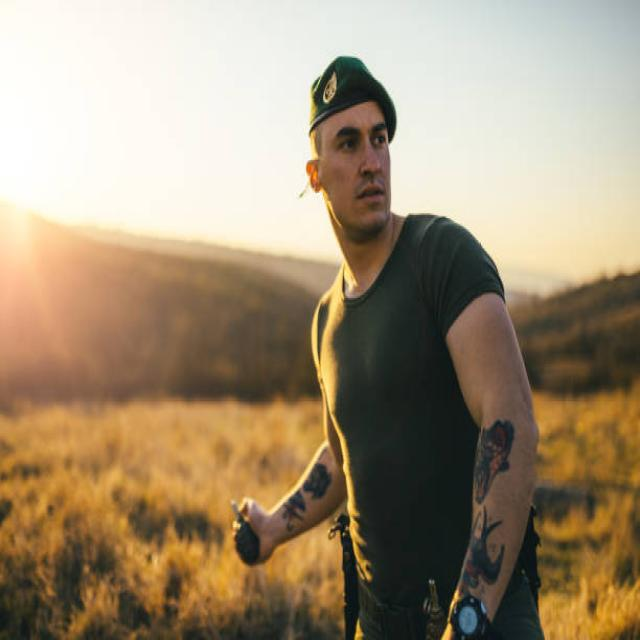grenade: (231, 496, 261, 569)
